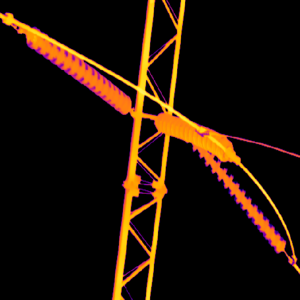insulator: (17, 18, 132, 115), (190, 138, 285, 253), (155, 106, 234, 161)
